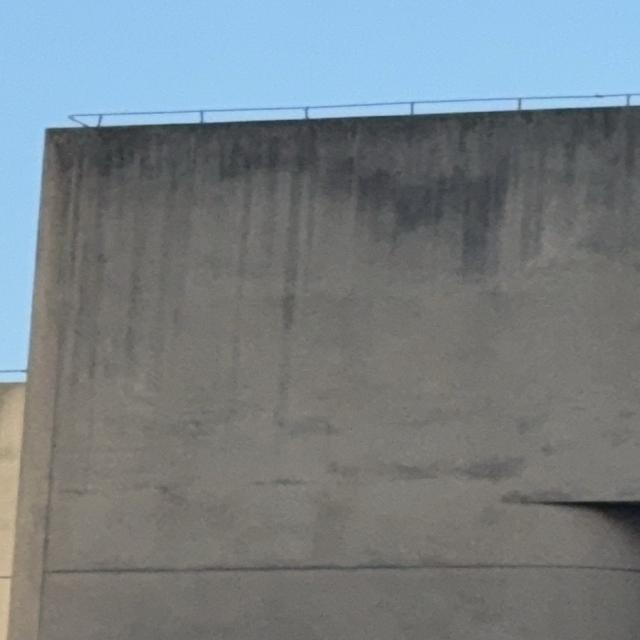mildew: (20, 105, 639, 502)
